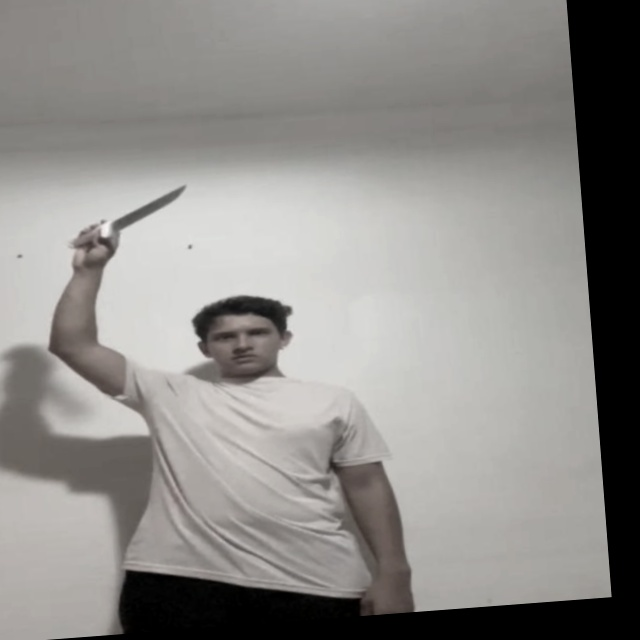Sharp-Object: (110, 186, 189, 230)
